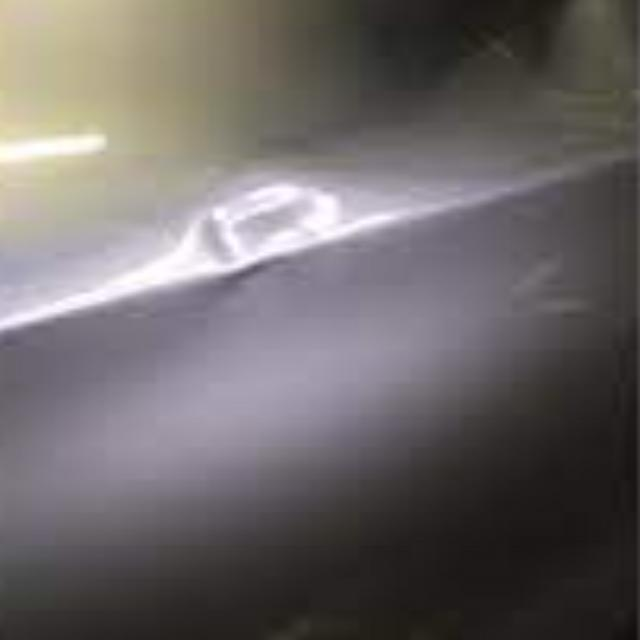dents: (170, 183, 462, 310)
